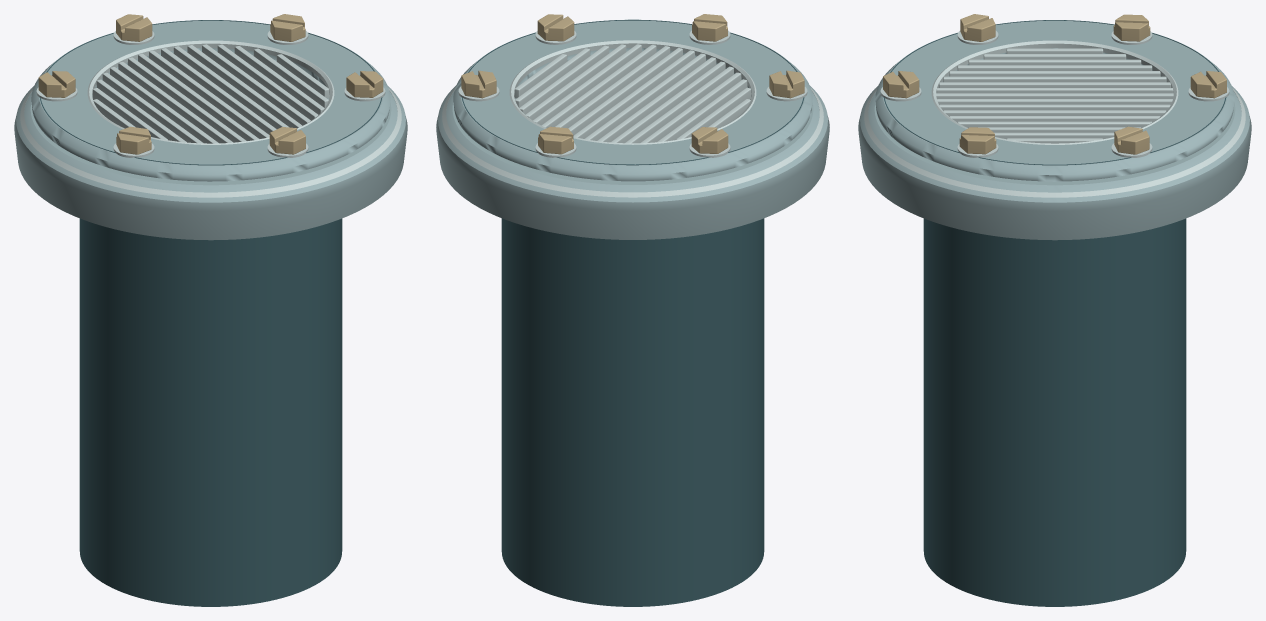
File: ReturnDrain.fbx
3 renders of one model, left to right at view 1: azimuth 30°, elevation 25°; view 2: azimuth 150°, elevation 25°; view 3: azimuth 270°, elevation 25°, orthographic.
Parts seen in each view (by area): view 1: Pipe_Throat, Lid, Fixed_Flange, Screw_03, Screw_05, Screw_06, Screw_02, Screw_04, Screw_01; view 2: Pipe_Throat, Lid, Fixed_Flange, Screw_03, Screw_06, Screw_02, Screw_05, Screw_04, Screw_01; view 3: Pipe_Throat, Lid, Fixed_Flange, Screw_06, Screw_01, Screw_02, Screw_03, Screw_05, Screw_04.
Part boxes in pixels (<box>): Pipe_Throat: <box>79,218,342,606</box>; Lid: <box>31,20,390,181</box>; Fixed_Flange: <box>14,86,407,240</box>; Screw_03: <box>36,71,77,101</box>; Screw_05: <box>267,127,308,157</box>; Screw_06: <box>344,71,385,101</box>; Screw_02: <box>113,14,154,44</box>; Screw_04: <box>113,126,154,157</box>; Screw_01: <box>267,14,308,44</box>; Pipe_Throat: <box>501,218,764,606</box>; Lid: <box>453,19,812,181</box>; Fixed_Flange: <box>436,86,829,239</box>; Screw_03: <box>689,127,730,157</box>; Screw_06: <box>535,14,576,44</box>; Screw_02: <box>535,126,576,157</box>; Screw_05: <box>689,14,730,44</box>; Screw_04: <box>766,70,807,101</box>; Screw_01: <box>458,70,499,101</box>; Pipe_Throat: <box>923,218,1186,606</box>; Lid: <box>875,20,1234,181</box>; Fixed_Flange: <box>858,86,1251,240</box>; Screw_06: <box>957,127,998,157</box>; Screw_01: <box>1111,126,1152,157</box>; Screw_02: <box>1188,71,1229,101</box>; Screw_03: <box>1111,14,1152,44</box>; Screw_05: <box>880,71,921,101</box>; Screw_04: <box>957,14,998,44</box>.
Bounding box in the file's own units: 216 × 288 × 216.
